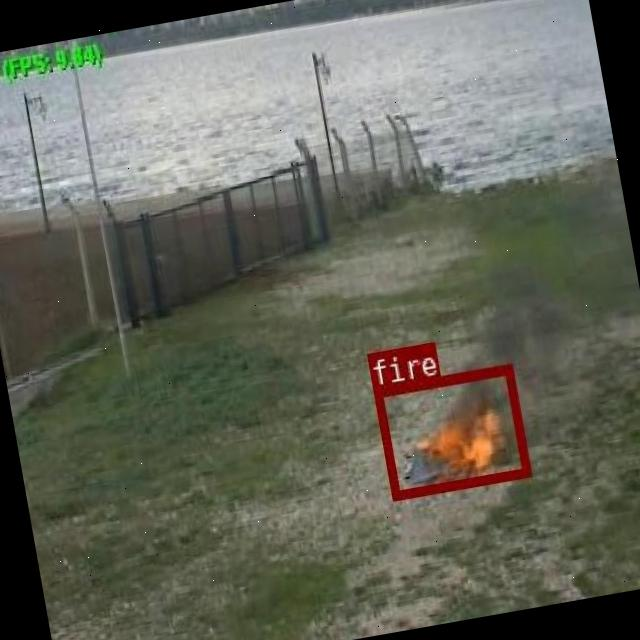fire: (371, 361, 528, 497)
